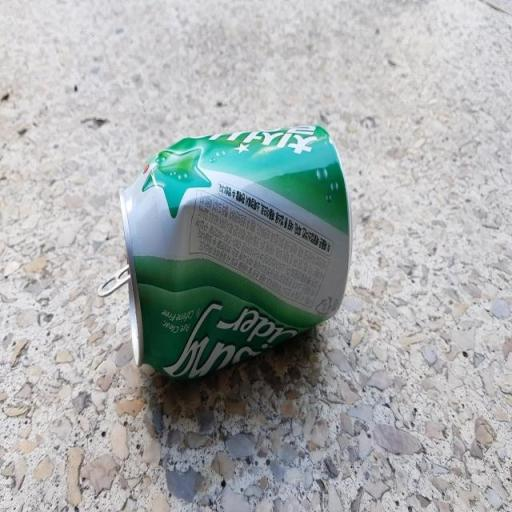metal: (103, 80, 384, 414)
